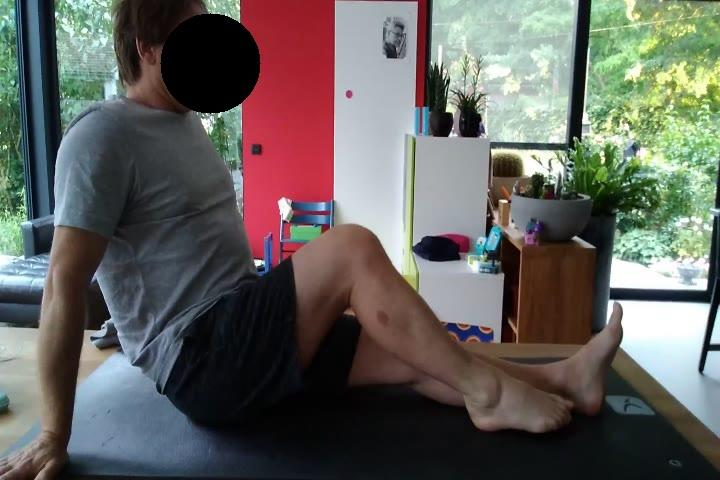lower_body: (161, 222, 626, 437)
